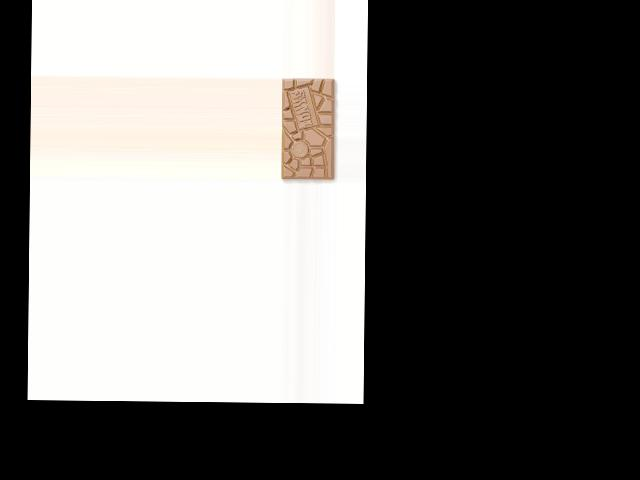chocolate: (281, 77, 337, 180)
